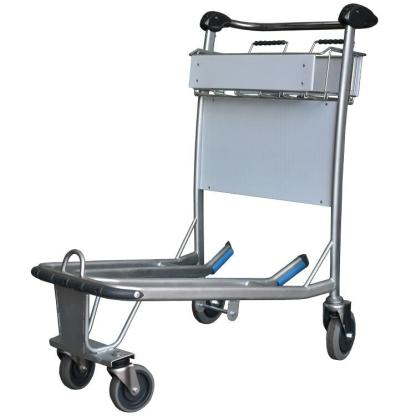airport-trolley: (29, 0, 381, 416)
